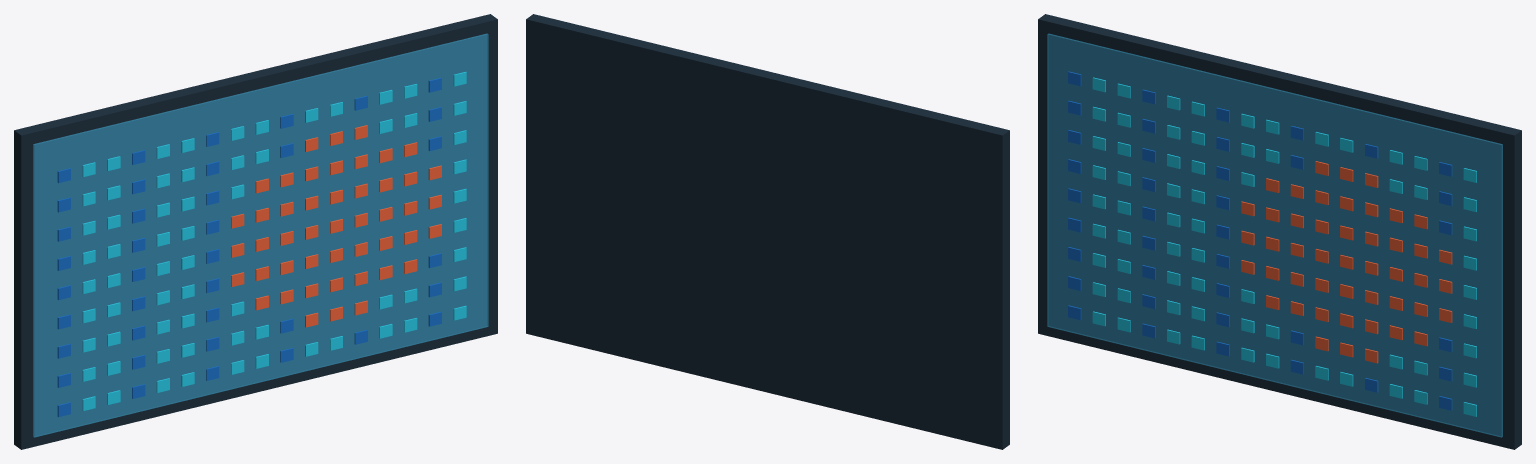
File: 38_L82_EMIFieldVectorHeatmapDisplay.fbx
3 views of the same model, side by side, from view 1: azimuth 30°, elevation 25°; view 2: azimuth 150°, elevation 25°; view 3: azimuth 330°, elevation 25° (orthographic).
Visible parts, largest first — view 1: EMIFieldVectorHeatmapDisplay; view 2: EMIFieldVectorHeatmapDisplay; view 3: EMIFieldVectorHeatmapDisplay.
Part boxes in pixels (bbox=[...]): EMIFieldVectorHeatmapDisplay: bbox=[14, 14, 497, 449]; EMIFieldVectorHeatmapDisplay: bbox=[526, 14, 1009, 449]; EMIFieldVectorHeatmapDisplay: bbox=[1038, 14, 1521, 449].
Size of the model in its own units: 341 by 215 by 13.45.
